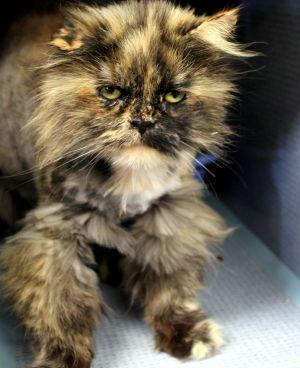persian: (58, 1, 256, 181)
